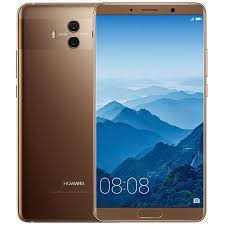huawei: (93, 1, 206, 222), (17, 1, 95, 223)
